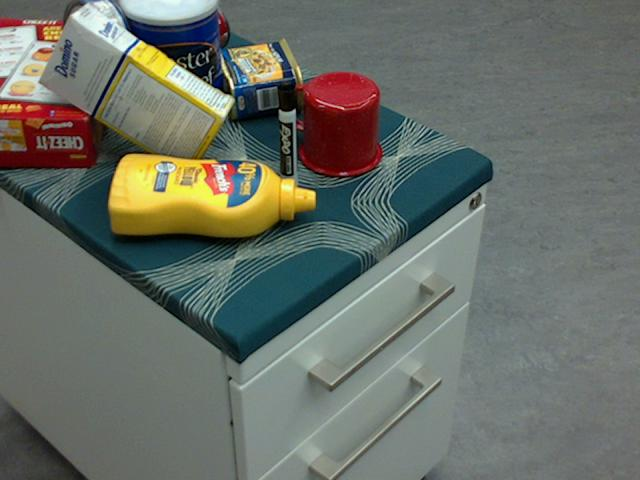cracker_box: (0, 21, 119, 168)
gelatin_box: (101, 0, 188, 50)
large_marker: (277, 80, 296, 188)
master_chef_can: (120, 0, 222, 135)
mug: (285, 70, 380, 176)
mustard_bottle: (107, 154, 315, 236)
potted_meat_can: (214, 37, 304, 118)
sugar_box: (40, 5, 237, 174)
tomato_soup_can: (134, 0, 230, 80)
tuna_fish_can: (63, 0, 132, 82)
